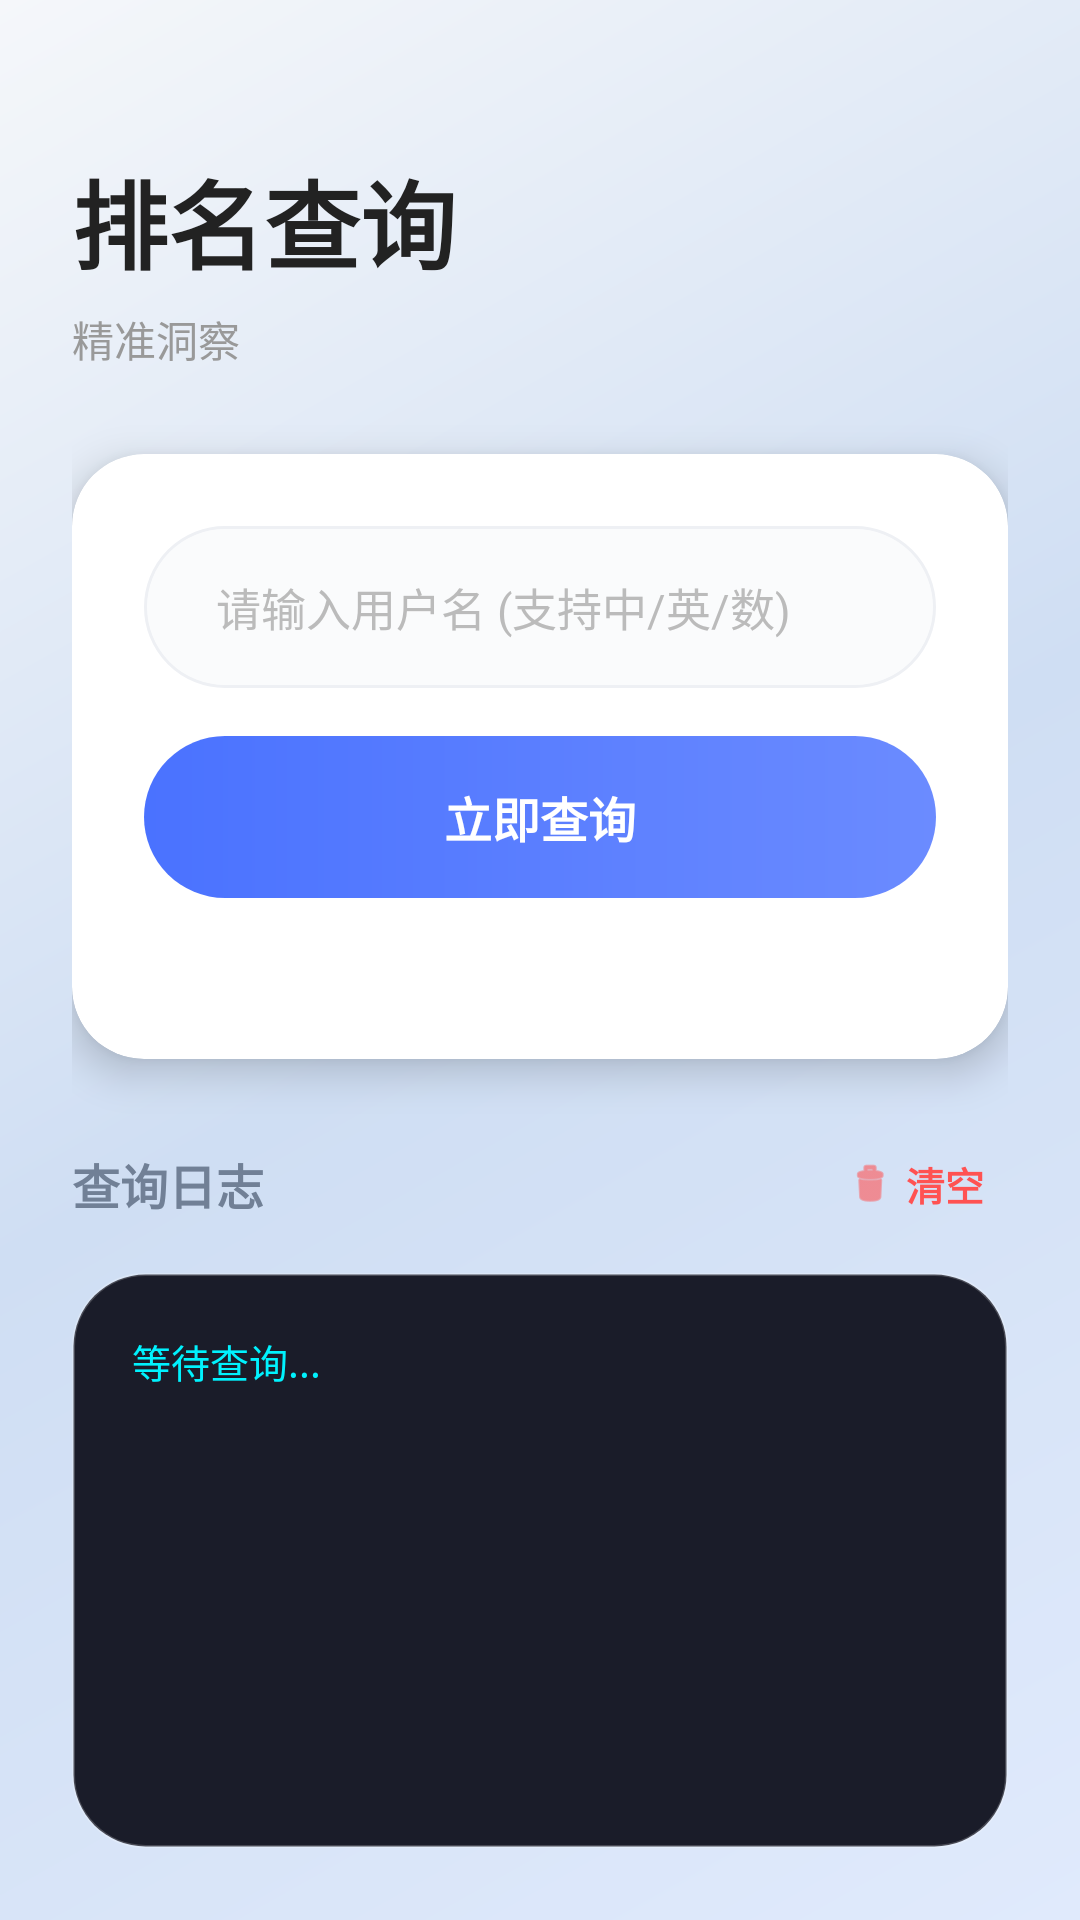

Where icons sit on this 1080 x 1920 app screen, as (x1, y1, x2, y2):
delete: (857, 1165, 884, 1202)
